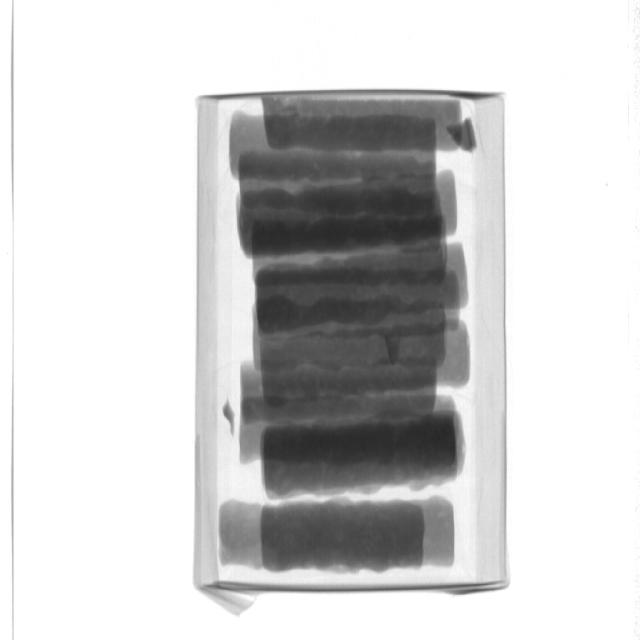ym: (450, 117, 479, 157), (386, 325, 405, 367), (223, 397, 237, 441)
